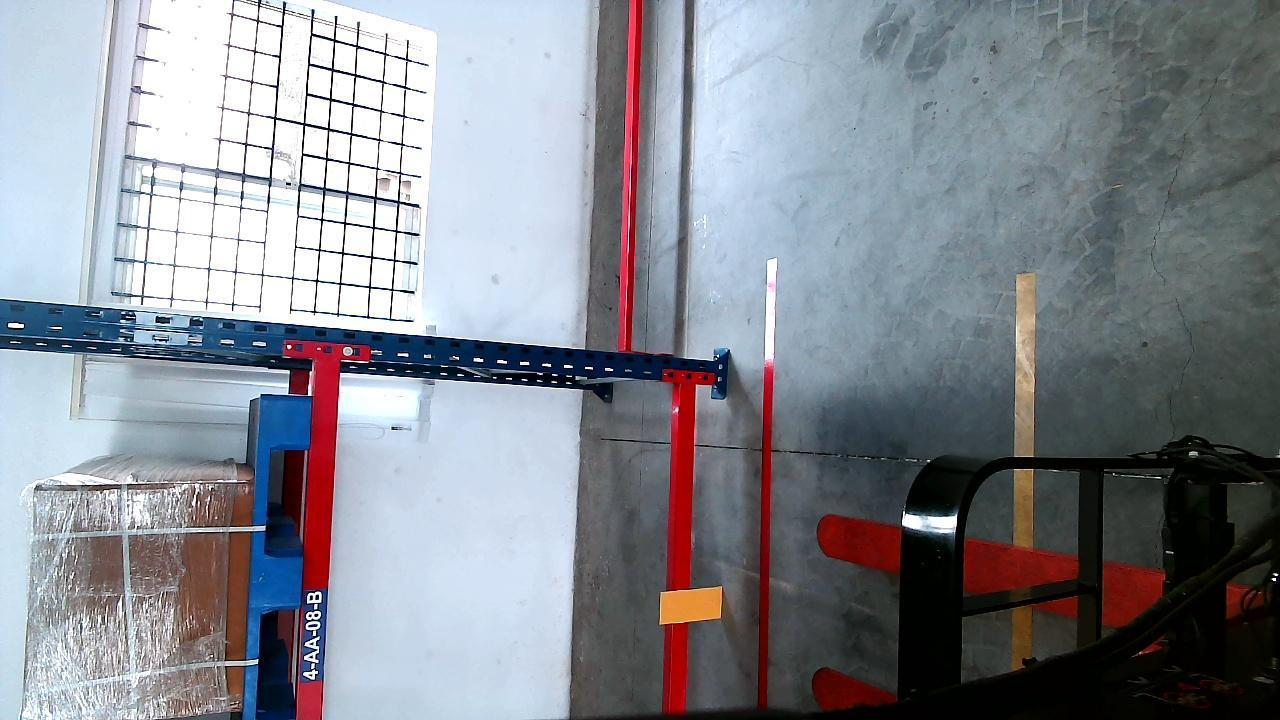h_rack: (300, 366, 340, 717), (667, 386, 696, 706)
orange_strip: (662, 586, 724, 623)
red_line: (754, 257, 778, 705)
small_pallet: (243, 402, 308, 720)
yellow_line: (1014, 262, 1037, 594)
